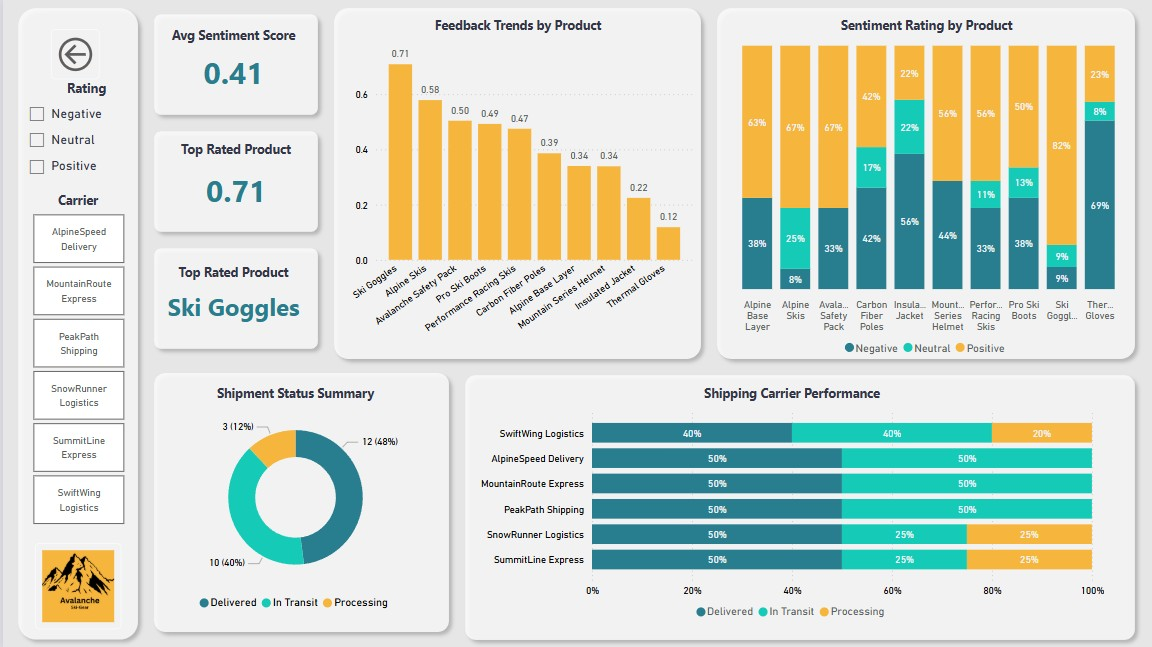

The page's visual inventory and layout, read from the dashboard file:
{"tool":"powerbi","page":{"name":"Customer & Logistics","canvas":[1280,720],"ordinal":2},"visuals":[{"type":"shape","box":[8.1,0,151.2,719.6],"z":0},{"type":"shape","box":[158.9,6.7,200,130],"z":1000},{"type":"shape","box":[504.4,407.8,762.2,312.2],"z":2000},{"type":"card","title":"Avg Sentiment Score","fields":{"Values":["customer_reviews.Avg Sentiment"]},"box":[174.4,28.9,163.3,85.6],"z":3000},{"type":"shape","box":[158.9,405.6,345.6,305.6],"z":4000},{"type":"donutChart","title":"Shipment Status Summary","fields":{"Category":["shipping-logs.status"],"Y":["CountNonNull(shipping-logs.order_id)"]},"box":[174.4,426.7,301.1,262.2],"z":5000},{"type":"hundredPercentStackedBarChart","title":"Shipping Carrier Performance","fields":{"Category":["shipping-logs.carrier"],"Y":["CountNonNull(shipping-logs.order_id)"],"Series":["shipping-logs.status"]},"box":[524.4,426.7,704.4,272.2],"z":6000},{"type":"shape","box":[784.4,0,482.2,407.8],"z":7000},{"type":"shape","box":[358.9,0,425.6,407.8],"z":8000},{"type":"clusteredColumnChart","title":"Feedback Trends by Product","fields":{"Category":["customer_reviews.PRODUCT"],"Y":["customer_reviews.Avg Sentiment"]},"box":[373.3,17.8,397.8,368.9],"z":9000},{"type":"hundredPercentStackedColumnChart","title":"Sentiment Rating by Product","fields":{"Category":["product-catalog-with-category-label.name"],"Y":["CountNonNull(customer_reviews.PRODUCT)"],"Series":["customer_reviews.SENTIMENT_RATING"]},"box":[794.4,17.8,463.3,387.8],"z":10000},{"type":"image","box":[35.6,603.3,95.6,95.6],"z":11000},{"type":"slicer","title":"Rating","fields":{"Values":["customer_reviews.SENTIMENT_RATING"]},"box":[16.7,87.8,152.2,124.4],"z":12000},{"type":"shape","box":[158.9,266.7,200,130],"z":13000},{"type":"shape","box":[158.9,136.7,200,130],"z":14000},{"type":"card","title":"Top Rated Product","fields":{"Values":["customer_reviews.TopRatedProduct"]},"box":[168.9,292.2,174.4,80],"z":15000},{"type":"card","title":"Top Rated Product","fields":{"Values":["customer_reviews.TopRatedSentimentScore"]},"box":[174.4,155.6,168.9,93.3],"z":16000},{"type":"slicer","title":"Carrier","fields":{"Values":["shipping-logs.carrier"]},"box":[7.8,212.2,151.1,376.7],"z":16001},{"type":"actionButton","box":[53.3,32.2,54.4,55.6],"z":16002}]}

Visuals, with their boxes in screenshot pixels (x1, y1, x2, y2), scaled from the page's 1280x720 canvas onto the 1152x647 screenshot:
shape: l=7, t=0, r=143, b=646
shape: l=143, t=6, r=323, b=123
shape: l=454, t=366, r=1140, b=646
"Avg Sentiment Score" card: l=157, t=26, r=304, b=103
shape: l=143, t=364, r=454, b=639
"Shipment Status Summary" donutChart: l=157, t=383, r=428, b=619
"Shipping Carrier Performance" hundredPercentStackedBarChart: l=472, t=383, r=1106, b=628
shape: l=706, t=0, r=1140, b=366
shape: l=323, t=0, r=706, b=366
"Feedback Trends by Product" clusteredColumnChart: l=336, t=16, r=694, b=347
"Sentiment Rating by Product" hundredPercentStackedColumnChart: l=715, t=16, r=1132, b=364
image: l=32, t=542, r=118, b=628
"Rating" slicer: l=15, t=79, r=152, b=191
shape: l=143, t=240, r=323, b=356
shape: l=143, t=123, r=323, b=240
"Top Rated Product" card: l=152, t=263, r=309, b=334
"Top Rated Product" card: l=157, t=140, r=309, b=224
"Carrier" slicer: l=7, t=191, r=143, b=529
actionButton: l=48, t=29, r=97, b=79
